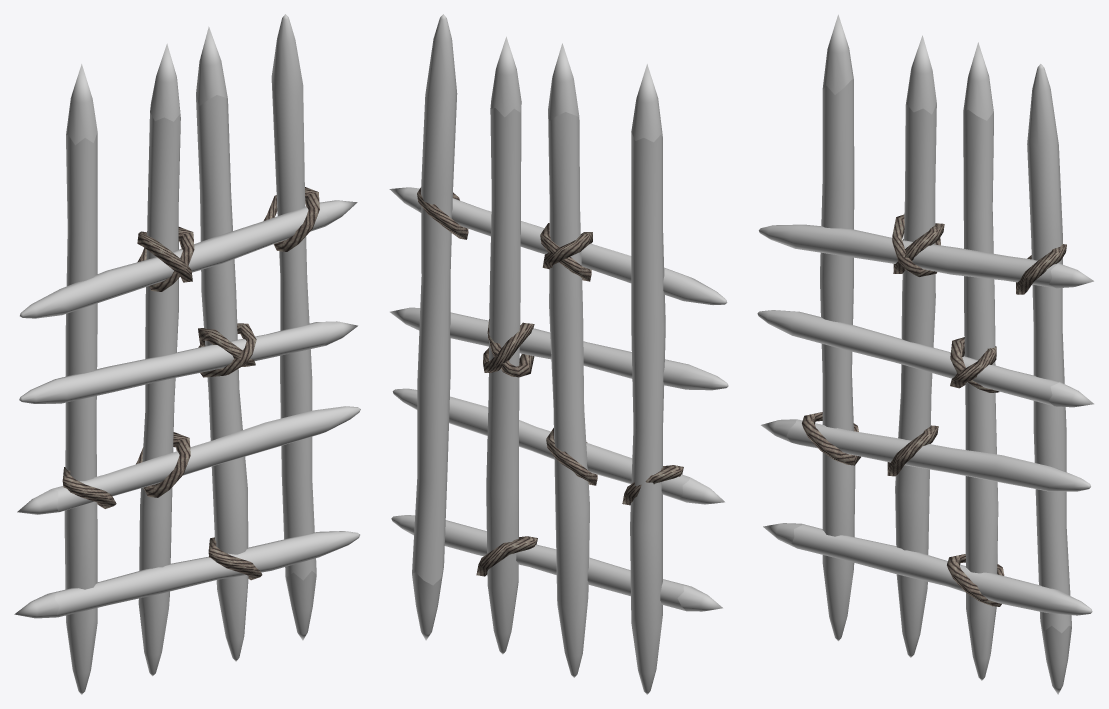
File: Wood_Herse_A.FBX
3 views of the same model, side by side, from view 1: azimuth 30°, elevation 25°; view 2: azimuth 150°, elevation 25°; view 3: azimuth 330°, elevation 25° (orthographic).
Parts seen in each view (by area): view 1: Wood_Herse_A; view 2: Wood_Herse_A; view 3: Wood_Herse_A.
Boxes of the visible parts, left/top/right/bottom form: Wood_Herse_A: left=14, top=14, right=360, bottom=694; Wood_Herse_A: left=389, top=14, right=728, bottom=694; Wood_Herse_A: left=757, top=14, right=1093, bottom=694.
Bounding box in the file's own units: 256 × 455 × 47.44.
